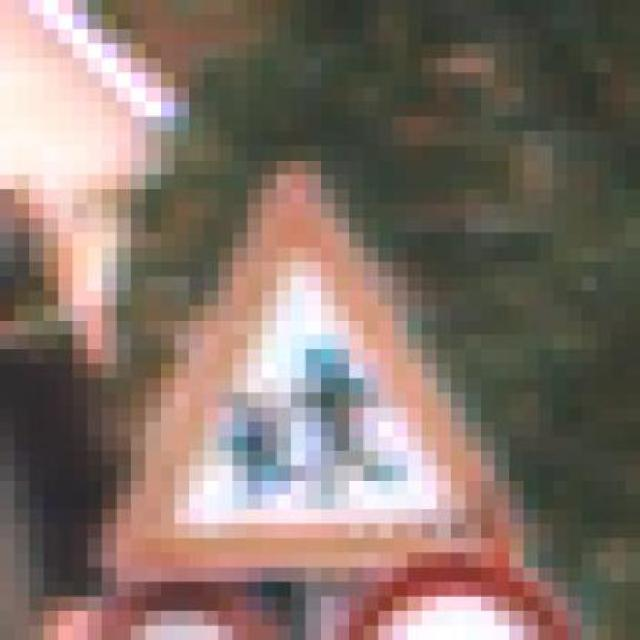Beware of children: (73, 131, 524, 597)
